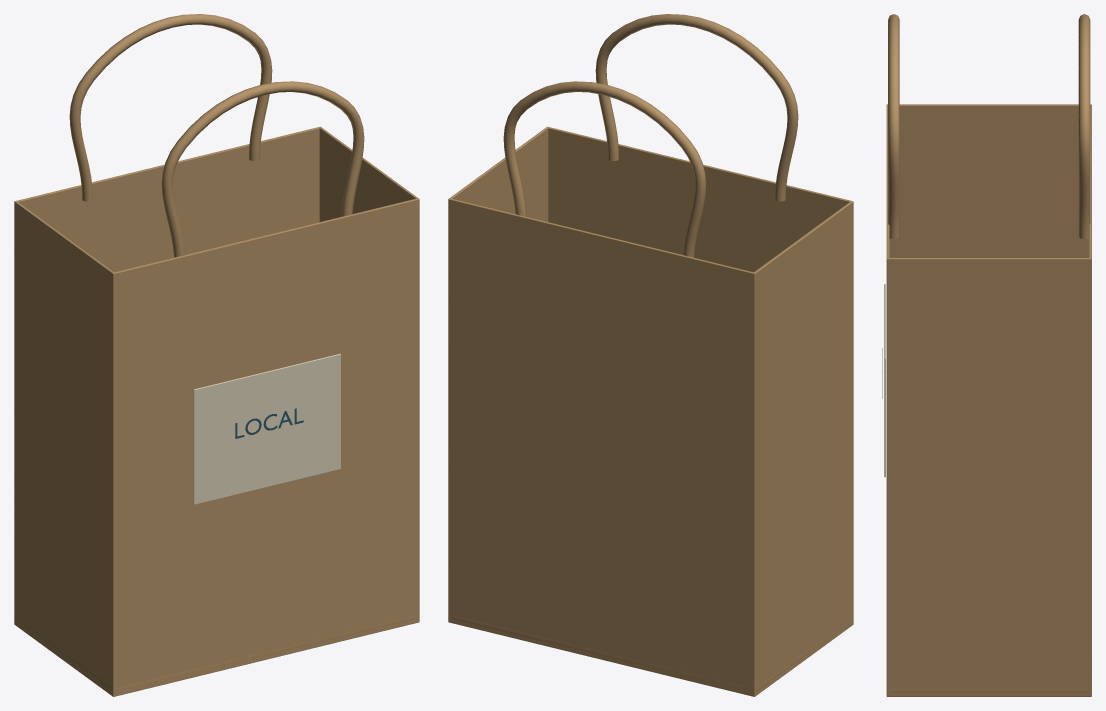
File: shop_005_paper_shopping_bag.glb
3 renders of one model, left to right at view 1: azimuth 30°, elevation 25°; view 2: azimuth 150°, elevation 25°; view 3: azimuth 270°, elevation 25°, orthographic. The views are drawn at different scales.
Parts seen in each view (by area): view 1: Static_Kraft_paper, Printed_Label, Paper_Handle.001, Paper_Handle; view 2: Static_Kraft_paper, Paper_Handle, Paper_Handle.001; view 3: Static_Kraft_paper, Paper_Handle.001, Paper_Handle, Printed_Label.
Boxes of the visible parts, left/top/right/bottom form: Static_Kraft_paper: left=14, top=126, right=419, bottom=696; Printed_Label: left=193, top=353, right=340, bottom=504; Paper_Handle.001: left=69, top=14, right=272, bottom=201; Paper_Handle: left=161, top=81, right=364, bottom=257; Static_Kraft_paper: left=448, top=126, right=853, bottom=696; Paper_Handle: left=595, top=14, right=798, bottom=201; Paper_Handle.001: left=503, top=81, right=706, bottom=257; Static_Kraft_paper: left=886, top=104, right=1091, bottom=696; Paper_Handle.001: left=1078, top=14, right=1090, bottom=238; Paper_Handle: left=888, top=14, right=899, bottom=238; Printed_Label: left=884, top=284, right=885, bottom=477.
Bounding box in the file's own units: 0.25 × 0.446 × 0.143.
